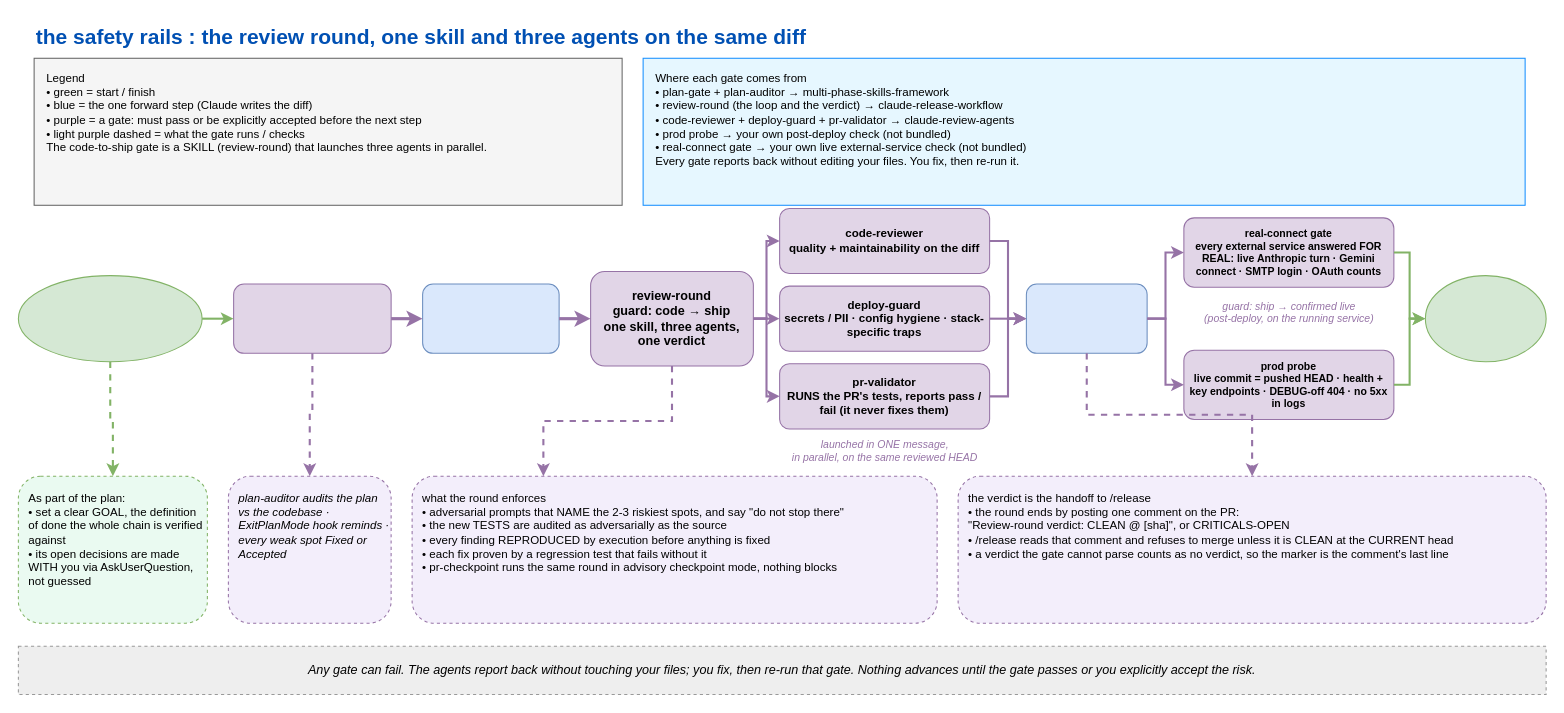
This 1564x713 diagram has some shape labels left out. The centre of each missing label's shape, as x and y in pixels:
"an approved, WRITTEN plan (plan mode → ExitPlanMode)" goes at point 109,318.
"implement Claude writes the diff (tdd optional)" goes at point 490,318.
"plan-gate guard: plan → code" goes at point 312,318.
"ship / deploy (/release)" goes at point 1086,318.
"verified live in production" goes at point 1485,318.
